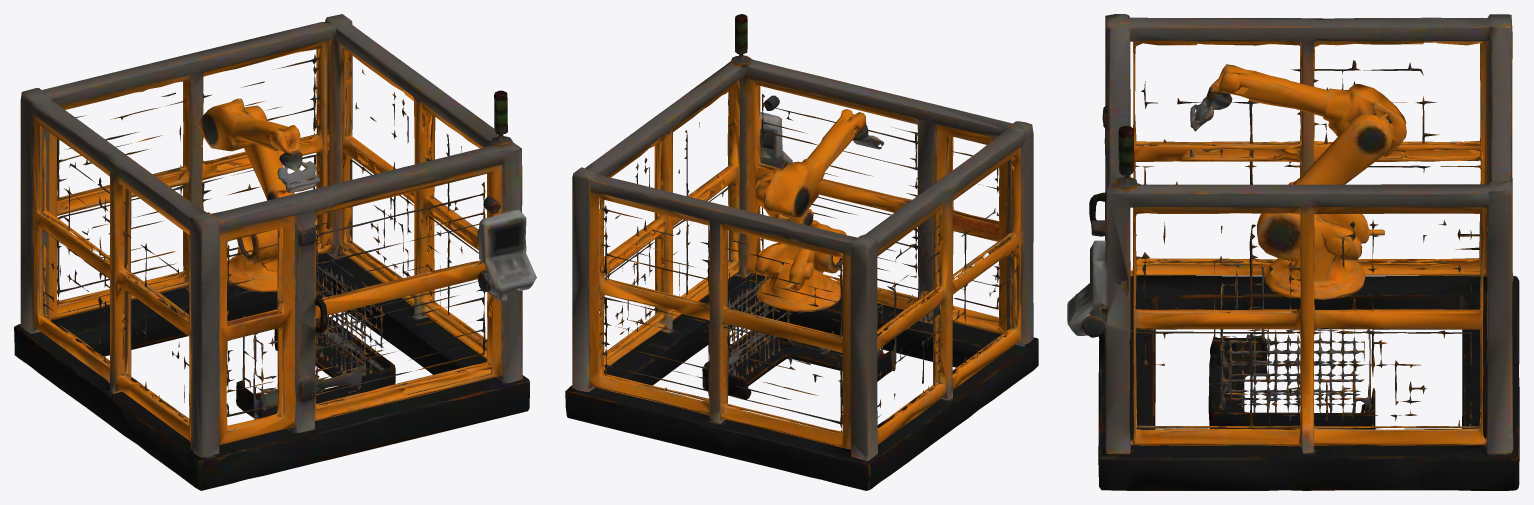
Rendered from robot_cell.glb.
3 renders of one model, left to right at view 1: azimuth 30°, elevation 25°; view 2: azimuth 150°, elevation 25°; view 3: azimuth 270°, elevation 25°, orthographic. The views are drawn at different scales.
Parts seen in each view (by area): view 1: geometry_0; view 2: geometry_0; view 3: geometry_0.
Part boxes in pixels (x1=…): geometry_0: x1=14, y1=14, x2=536, y2=490; geometry_0: x1=565, y1=14, x2=1038, y2=490; geometry_0: x1=1067, y1=14, x2=1519, y2=490.
Size of the model in its own units: 0.9548 by 0.8635 by 0.9997.
Materials: 1 (1 with a texture image).
